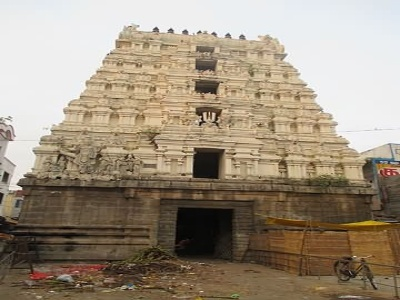gopura: (52, 7, 372, 190)
